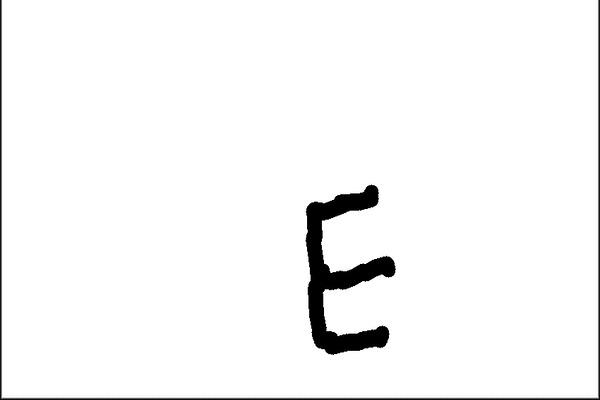E: (298, 182, 408, 356)
